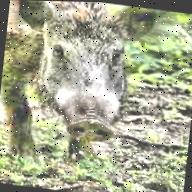boar: (0, 0, 173, 175)
